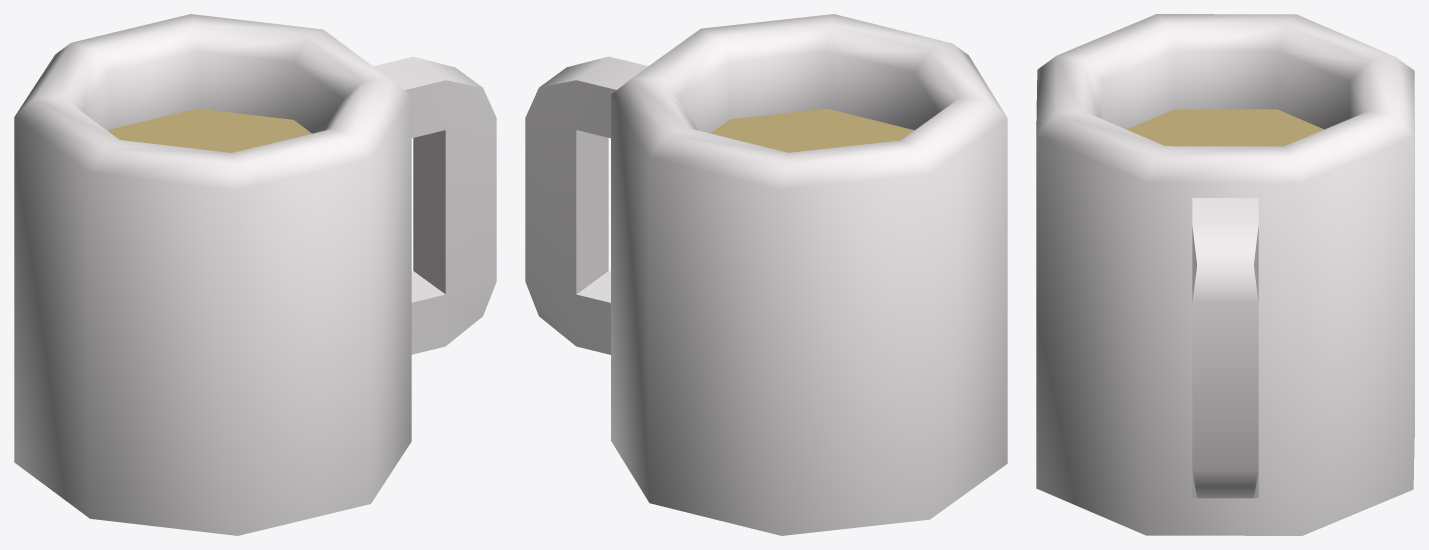
File: SM_CoffeeMug.fbx
3 views of the same model, side by side, from view 1: azimuth 30°, elevation 25°; view 2: azimuth 150°, elevation 25°; view 3: azimuth 270°, elevation 25° (orthographic). The views are drawn at different scales.
Parts seen in each view (by area): view 1: Cylinder; view 2: Cylinder; view 3: Cylinder.
Part boxes in pixels (x1,y1,x2,y2): Cylinder: (14,14,496,535); Cylinder: (525,14,1007,535); Cylinder: (1036,14,1414,535).
Size of the model in its own units: 41.16 by 30.89 by 33.34.
